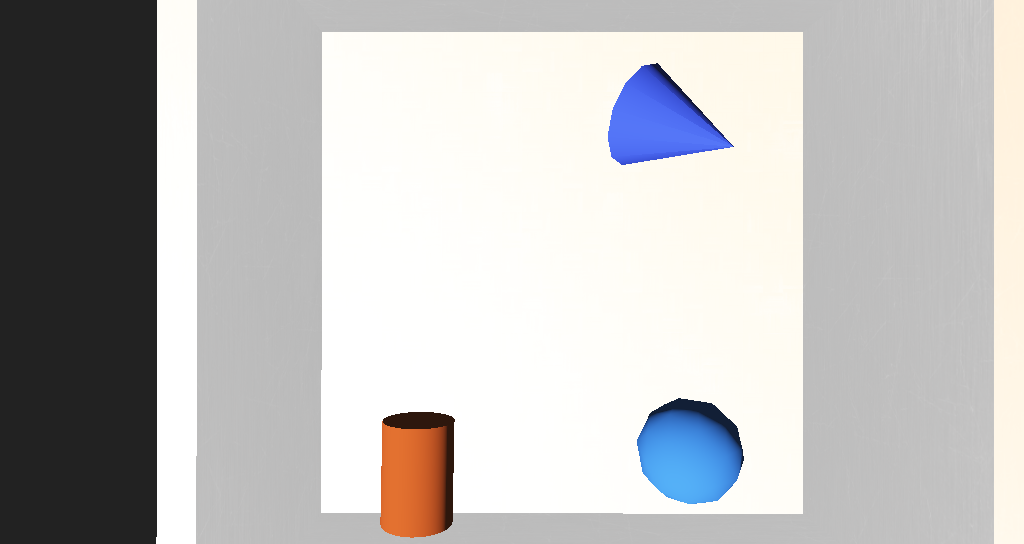cone: (394, 332, 441, 384)
cylinder: (522, 167, 637, 243)
sphere: (546, 320, 613, 367)
